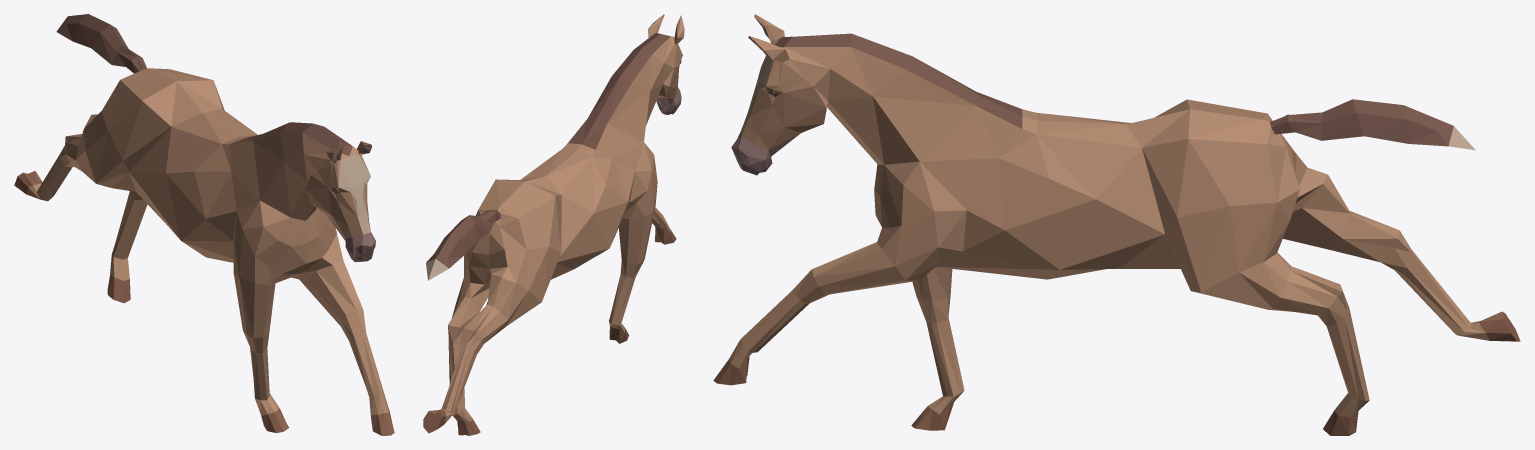
The model's file is horse.glb.
3 renders of one model, left to right at view 1: azimuth 30°, elevation 25°; view 2: azimuth 150°, elevation 25°; view 3: azimuth 270°, elevation 25°, orthographic. The views are drawn at different scales.
Size of the model in its own units: 61.1 by 182 by 322.
